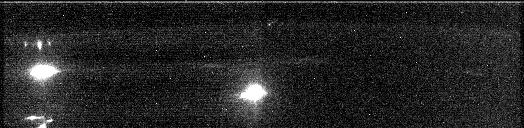positive: (20, 38, 54, 52)
